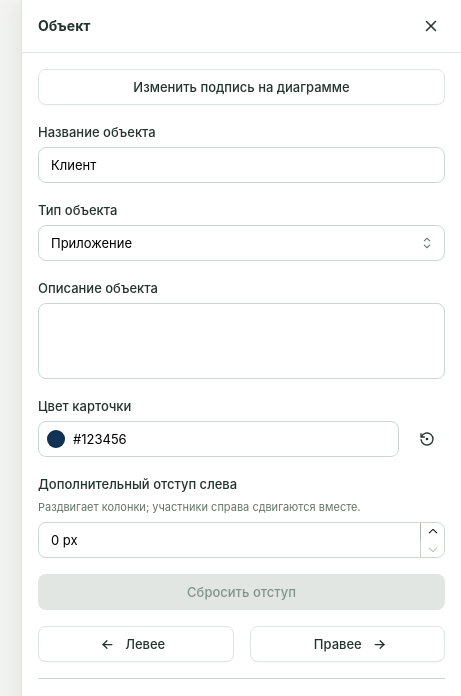
Test: CanvasInspector › keeps a partial hex outside the document and restores the saved color on blur
Replace the text in the field labelled "Цвет карточки" with "#abc": (218, 439) [38,421,399,457]
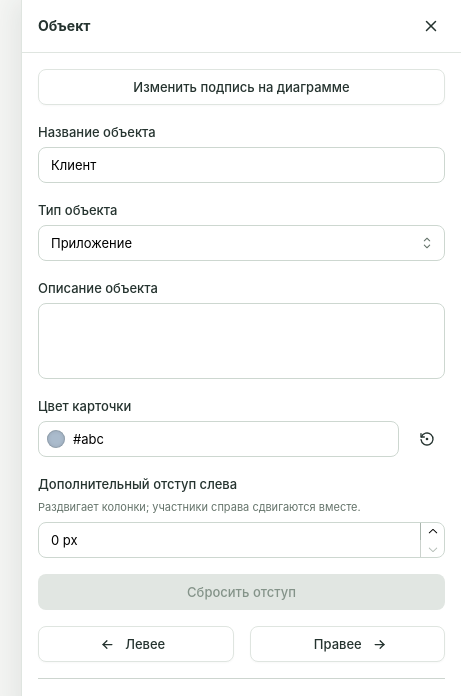
Leave the field labelled "Цвет карточки", box [38,421,399,457]
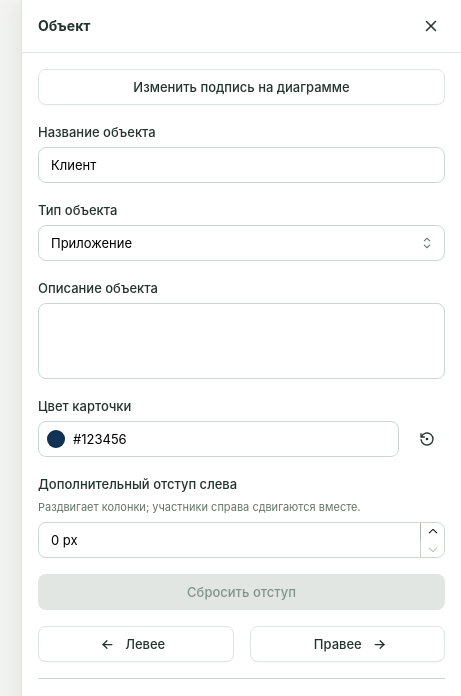
Result: the field labelled "Цвет карточки" holds "#123456" at [38,421,399,457]
